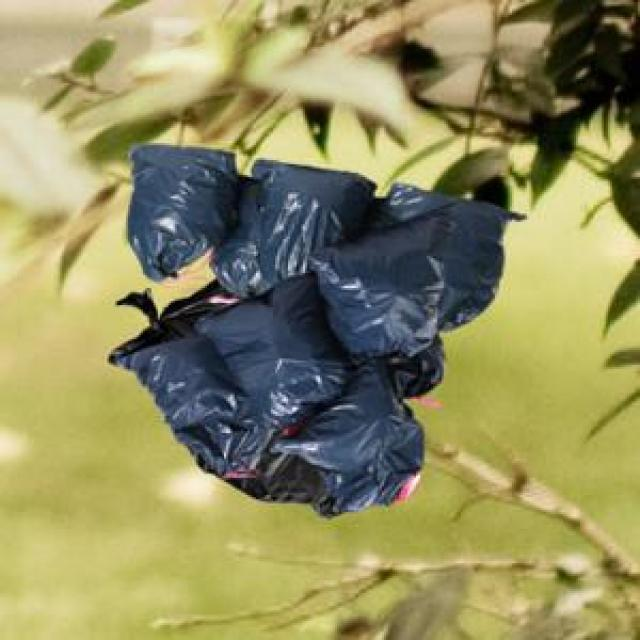waste: (188, 276, 348, 398), (306, 204, 434, 348), (235, 158, 372, 276), (123, 338, 260, 448), (312, 368, 424, 501), (130, 143, 222, 257)
